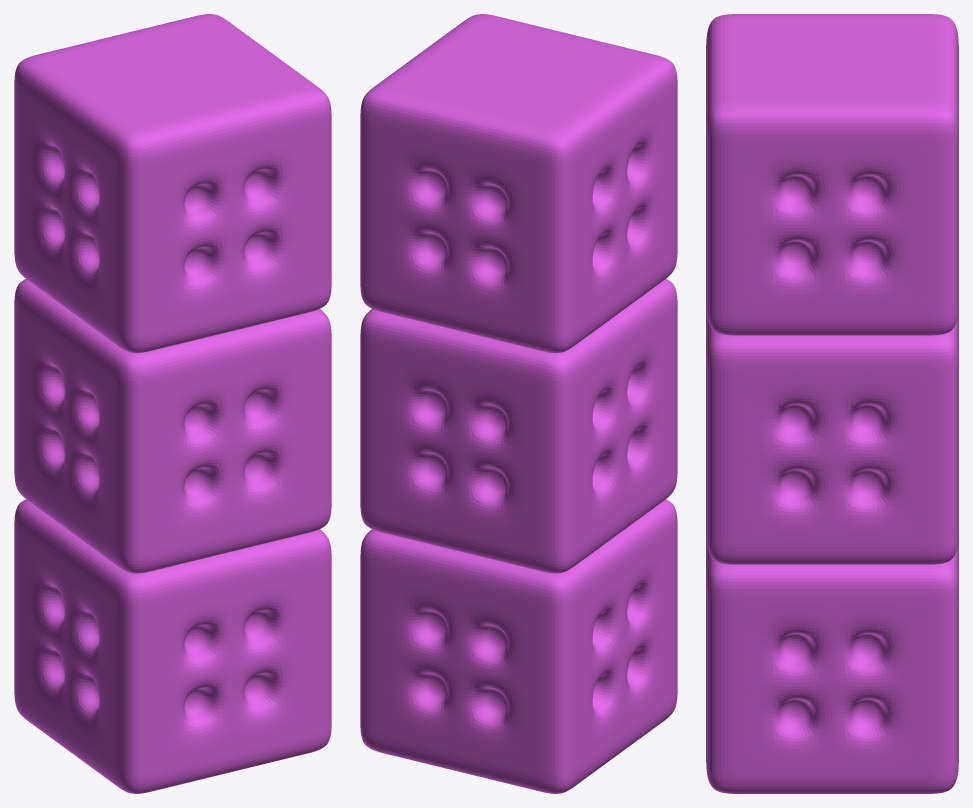
The model's file is pink_1.3.1.fbx.
The picture shows the model from 3 angles, left to right: view 1: azimuth 30°, elevation 25°; view 2: azimuth 150°, elevation 25°; view 3: azimuth 270°, elevation 25°; orthographic projection. The views are drawn at different scales.
Parts seen in each view (by area): view 1: Cube.001; view 2: Cube.001; view 3: Cube.001.
Part boxes in pixels (bbox=[...]): Cube.001: bbox=[14, 14, 331, 793]; Cube.001: bbox=[360, 14, 677, 793]; Cube.001: bbox=[706, 14, 958, 793].
Size of the model in its own units: 100 by 300 by 100.
